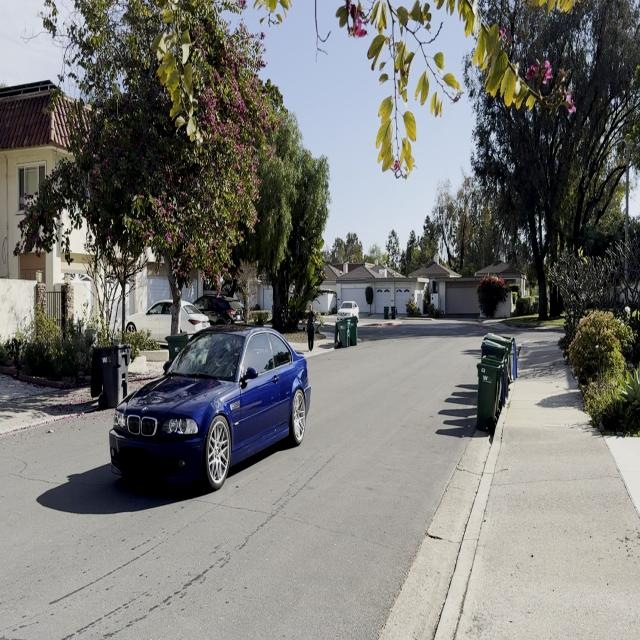Carbeetle: (105, 320, 328, 506)
